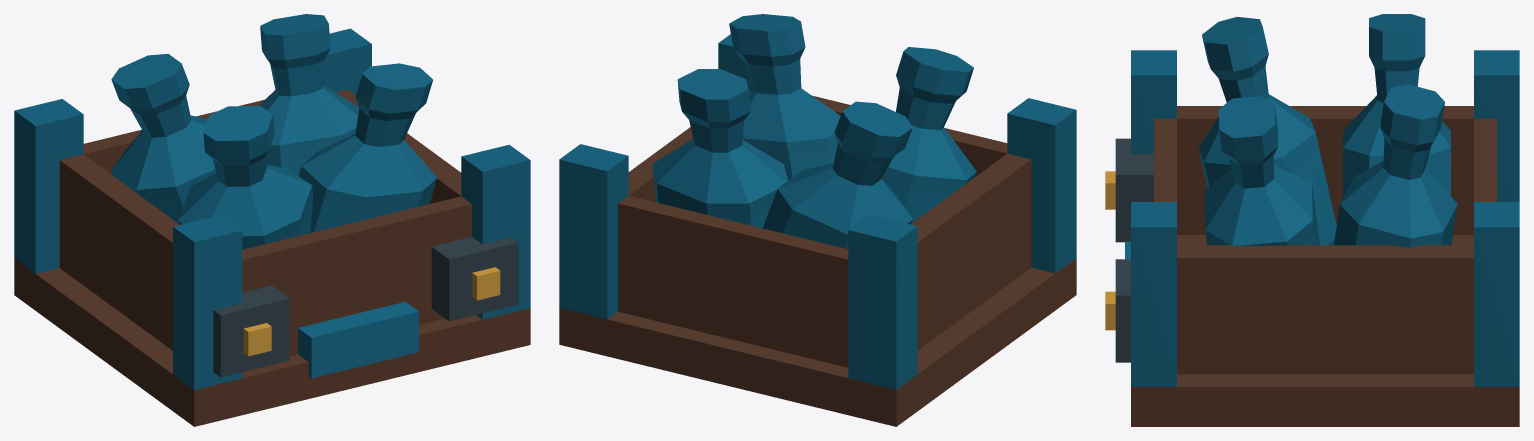
Rendered from bottle-crate-sky.glb.
3 renders of one model, left to right at view 1: azimuth 30°, elevation 25°; view 2: azimuth 150°, elevation 25°; view 3: azimuth 270°, elevation 25°, orthographic. The views are drawn at different scales.
Parts seen in each view (by area): view 1: bottle-crate-sky; view 2: bottle-crate-sky; view 3: bottle-crate-sky.
Part boxes in pixels (<box>): bottle-crate-sky: <box>14,14,530,426</box>; bottle-crate-sky: <box>559,14,1076,426</box>; bottle-crate-sky: <box>1105,14,1519,426</box>.
Bounding box in the file's own units: 0.68 × 0.49 × 0.6719.
